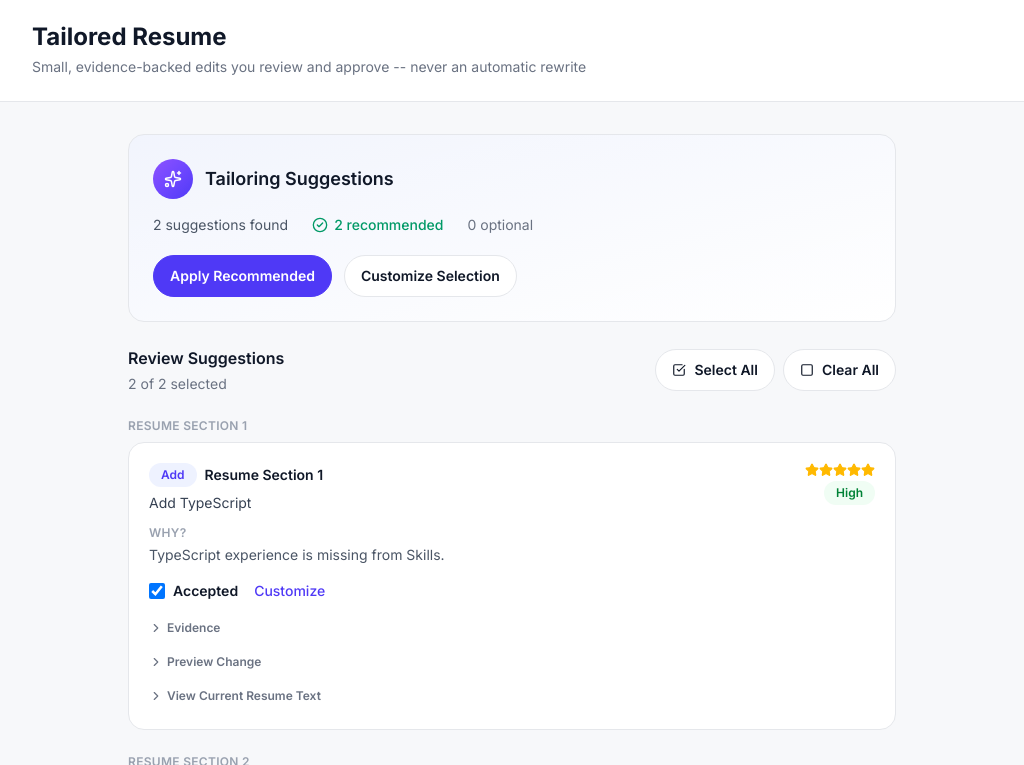
TailoredResumePage: reviewing and selecting suggestions › collapses everything but a concise summary for an append suggestion by default
The width and height of the screenshot is (1024, 765).
Expected: the text "Add TypeScript" is shown, [149,494,251,511]
Expected: the text "Python" is not shown
Click the button "View Current Resume Text": click(235, 696) [149,688,321,704]
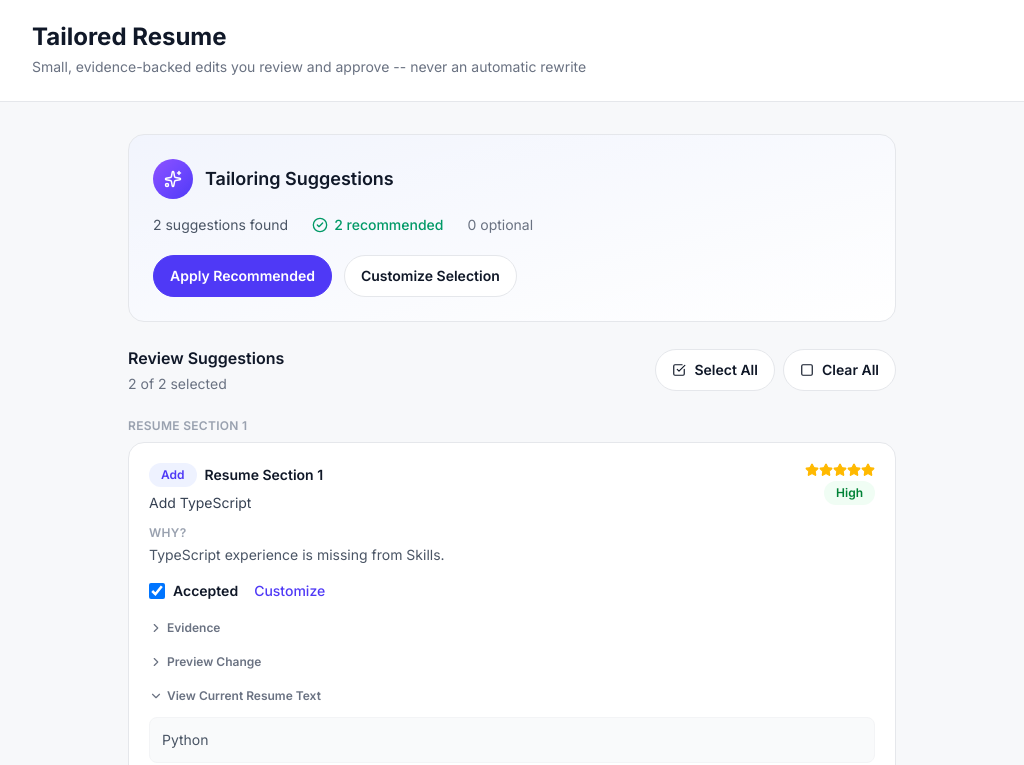
Now the text "Python" is shown, box [162,731,208,748]
Click the button "Preview Change": click(205, 662) [149,654,261,670]
(page scrolled)
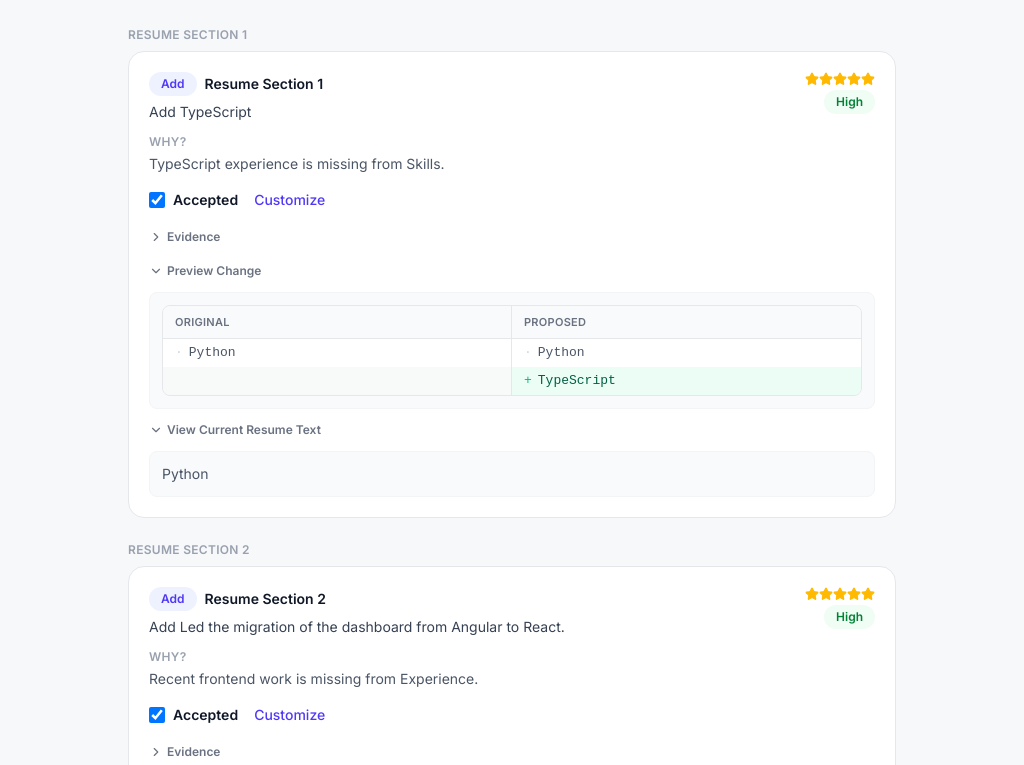
Now the text "TypeScript" is shown, box [538,373,616,388]
